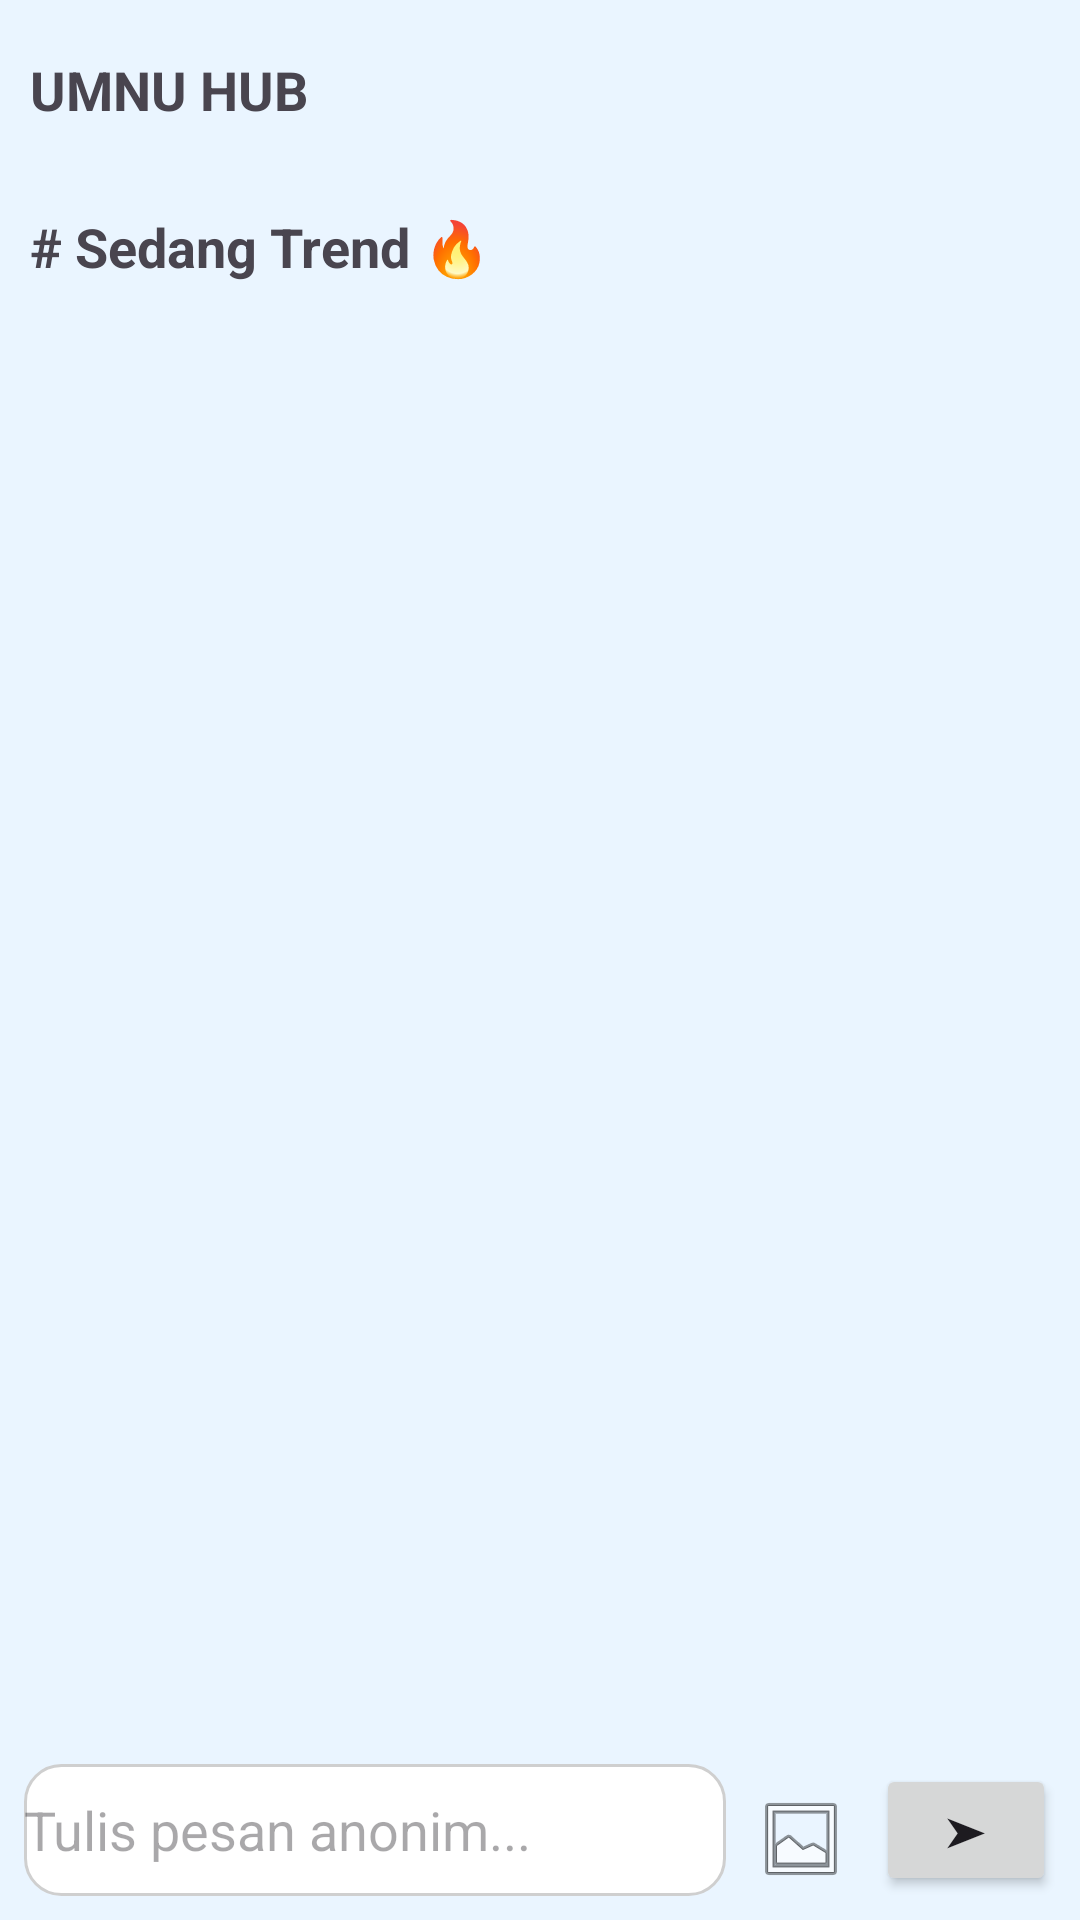

Icon click points for this 1080*1920 phone screenshot, format (x=x, y=y):
gallery: (x=801, y=1839)
